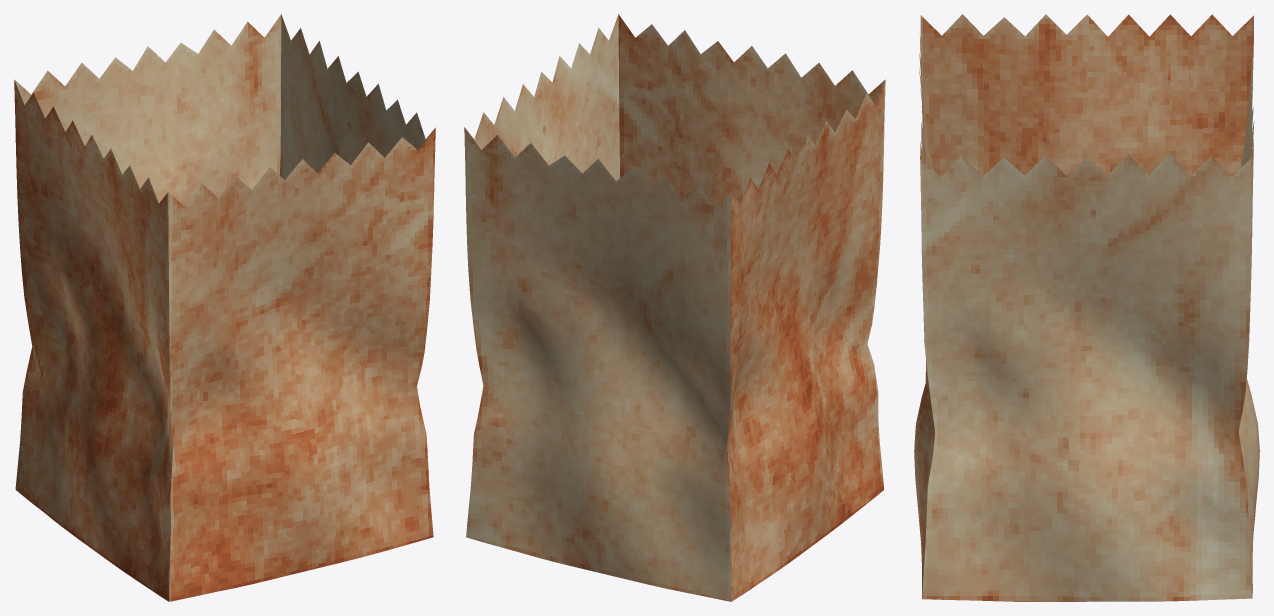
The model's file is wear_paperbag2.glb.
3 renders of one model, left to right at view 1: azimuth 30°, elevation 25°; view 2: azimuth 150°, elevation 25°; view 3: azimuth 270°, elevation 25°, orthographic. The views are drawn at different scales.
Parts seen in each view (by area): view 1: mesh; view 2: mesh; view 3: mesh.
Boxes of the visible parts, bbox=[...] form: mesh: bbox=[14, 14, 435, 601]; mesh: bbox=[464, 14, 885, 601]; mesh: bbox=[914, 14, 1259, 601].
Size of the model in its own units: 0.2087 by 0.3 by 0.2092.
1 material, 1 textured.
